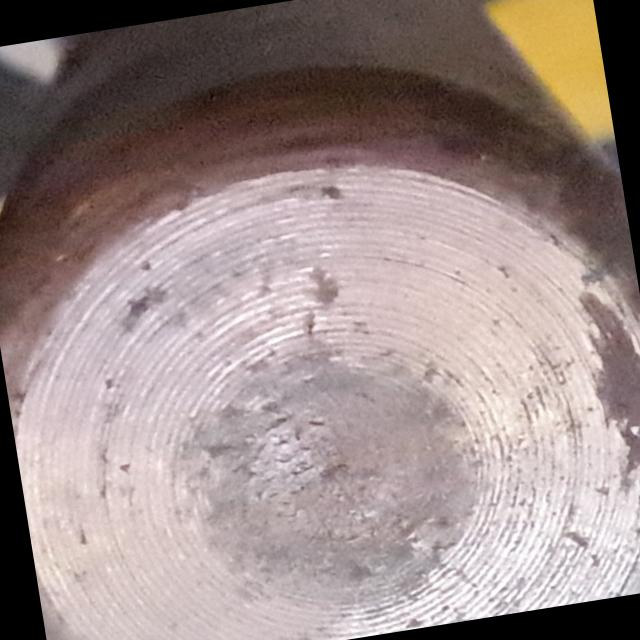planson: (0, 0, 640, 640)
